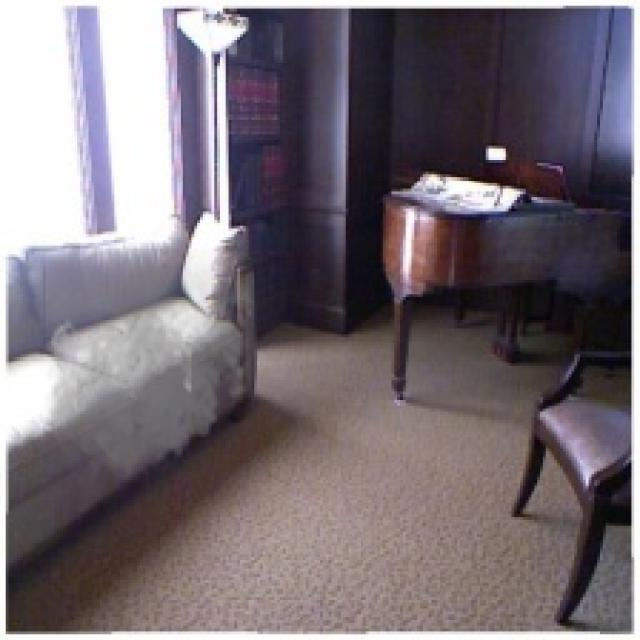Smoke: (43, 248, 260, 492)
